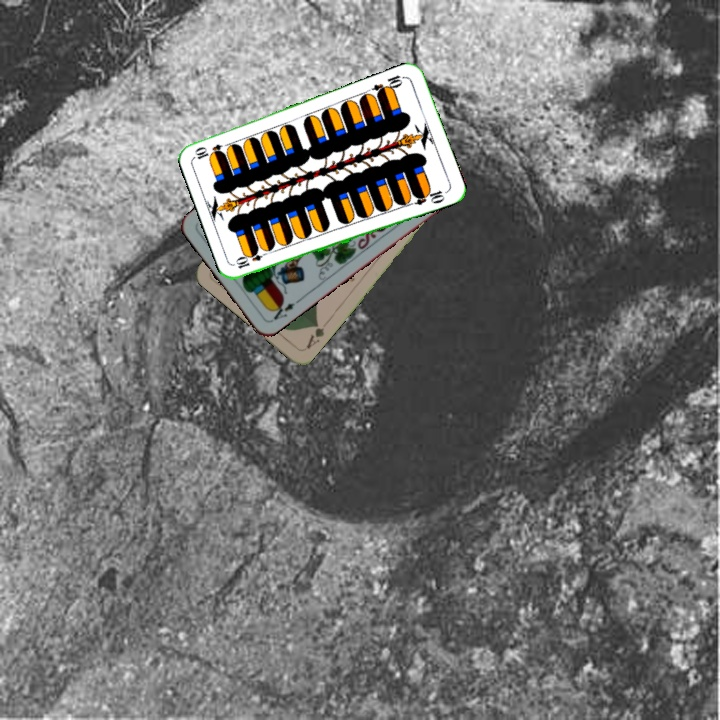E10: (368, 71, 408, 98), (232, 246, 272, 271)
EA: (266, 298, 298, 324)
GA: (302, 318, 327, 352)
